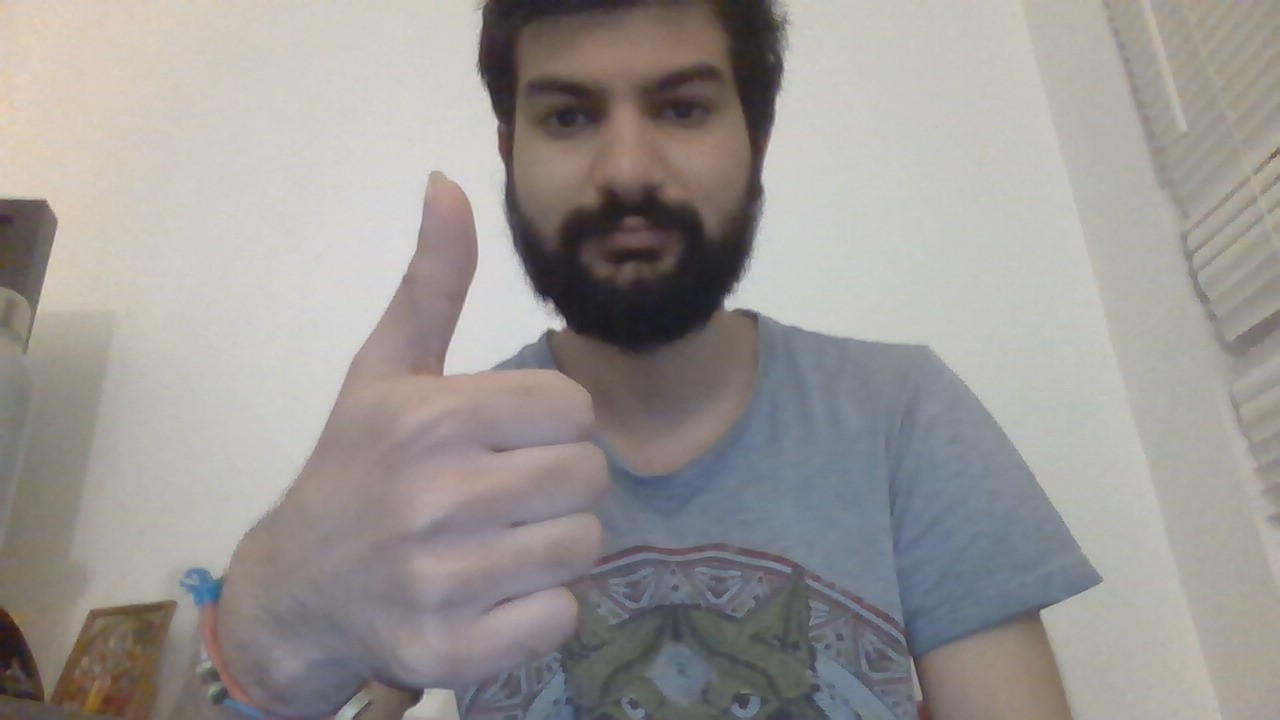up: (284, 167, 598, 678)
